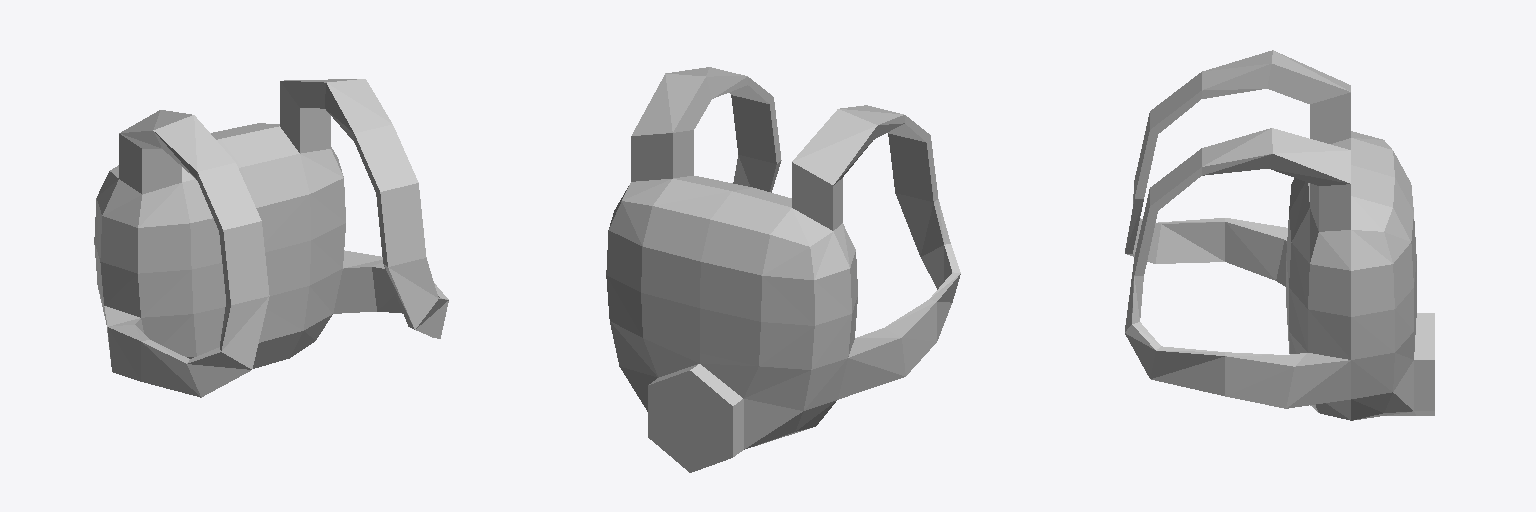
The model's file is WaterPack_Medium.obj.
The picture shows the model from 3 angles: view 1: azimuth 30°, elevation 25°; view 2: azimuth 150°, elevation 25°; view 3: azimuth 270°, elevation 25°; orthographic projection.
Visible parts, largest first — view 1: Cube.018; view 2: Cube.018; view 3: Cube.018.
Part boxes in pixels (x1,y1,x2,y2): Cube.018: (94,79,448,397); Cube.018: (606,67,960,472); Cube.018: (1125,50,1434,420).
Bounding box in the file's own units: 1.75 × 1.89 × 1.66.